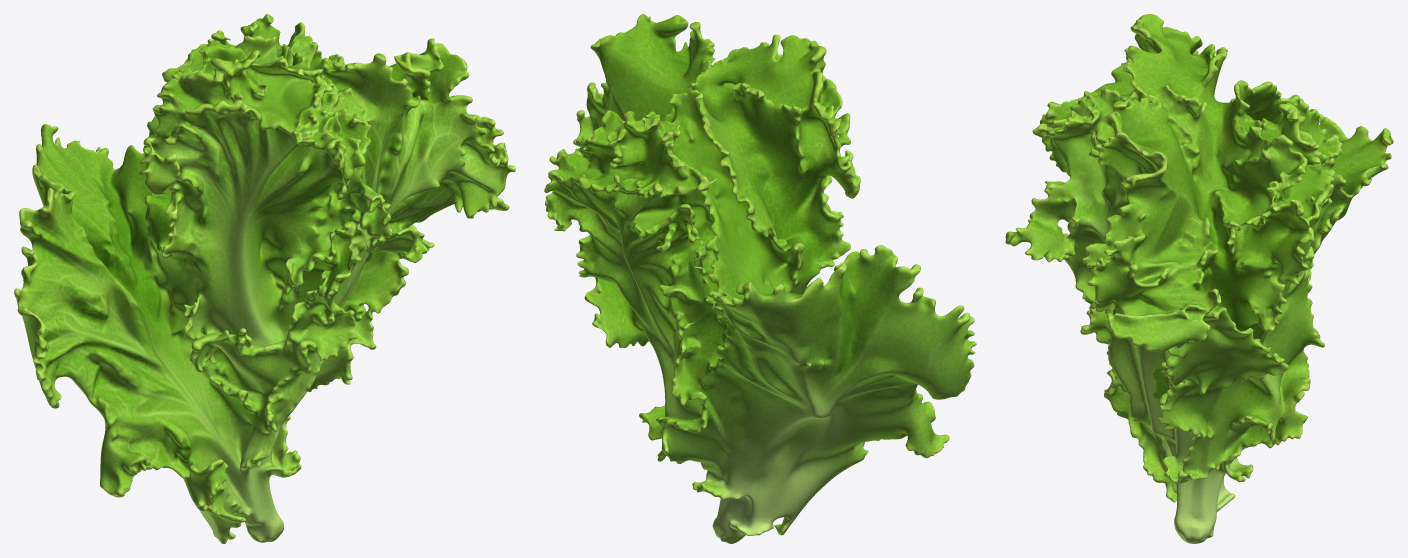
Rendered from lettuce.glb.
The picture shows the model from 3 angles, left to right: view 1: azimuth 30°, elevation 25°; view 2: azimuth 150°, elevation 25°; view 3: azimuth 270°, elevation 25°; orthographic projection. The views are drawn at different scales.
Bounding box in the file's own units: 1.74 × 1.9 × 1.34.
1 material, 1 textured.
